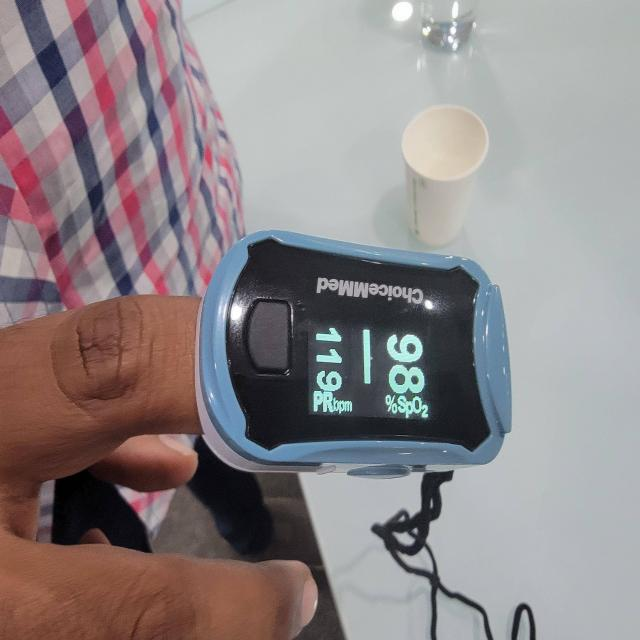spo2: (195, 230, 514, 480)
